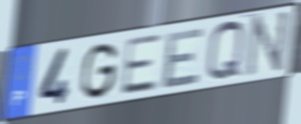4: (36, 45, 73, 110)
E: (159, 25, 206, 91), (118, 31, 163, 98)
G: (78, 41, 120, 102)
N: (243, 8, 292, 79)
Q: (204, 19, 247, 85)
